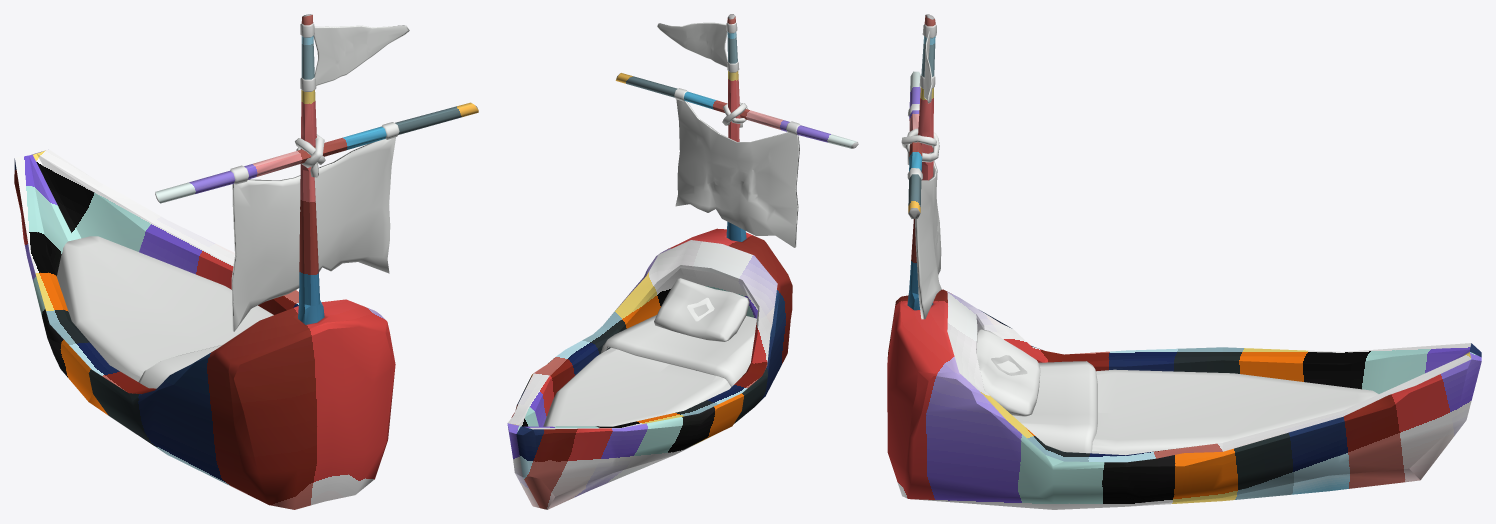
File: P_TreasurePirateBed.glb
3 renders of one model, left to right at view 1: azimuth 30°, elevation 25°; view 2: azimuth 150°, elevation 25°; view 3: azimuth 270°, elevation 25°, orthographic. The views are drawn at different scales.
Visible parts, largest first — view 1: P_TreasurePirateBed; view 2: P_TreasurePirateBed; view 3: P_TreasurePirateBed.
Boxes of the visible parts, box(x1,y1,x2,y2) form: P_TreasurePirateBed: box(14, 14, 478, 509); P_TreasurePirateBed: box(507, 14, 858, 509); P_TreasurePirateBed: box(887, 14, 1481, 509).
Bounding box in the file's own units: 1.44 × 2.06 × 2.37.
1 material, 1 textured.
